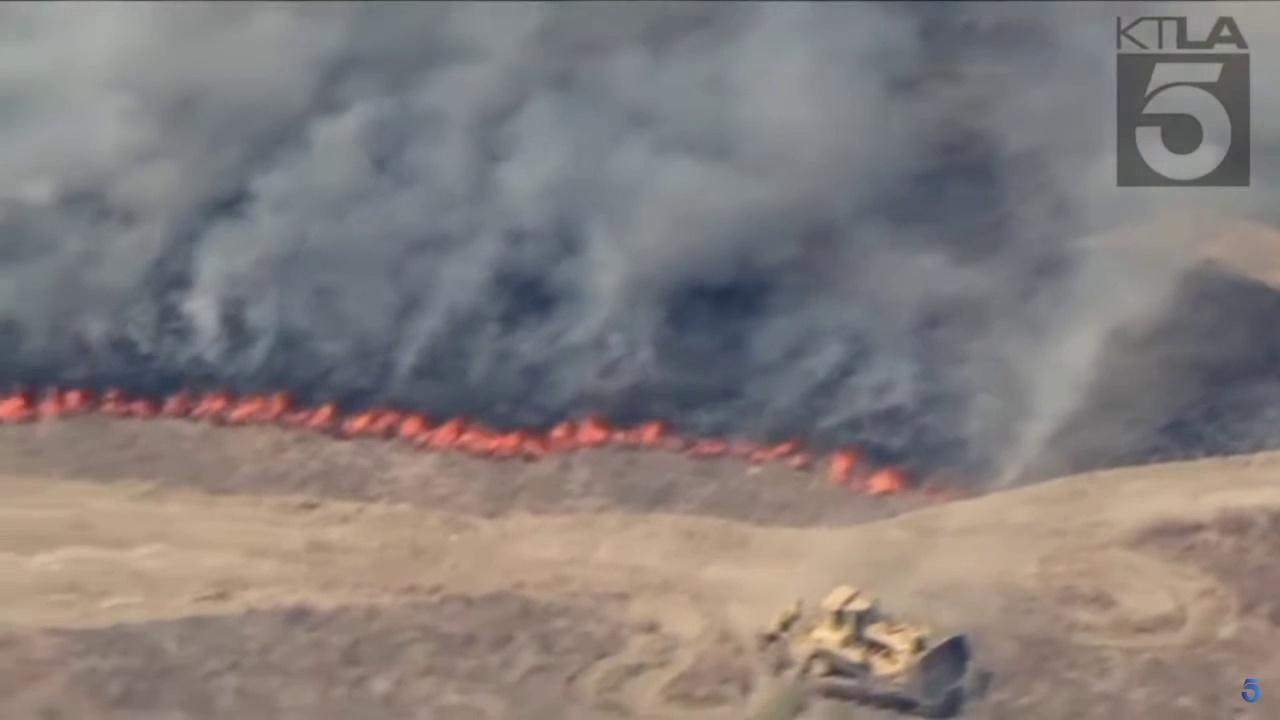fire: (0, 386, 904, 495)
smoke: (0, 0, 1280, 481)
